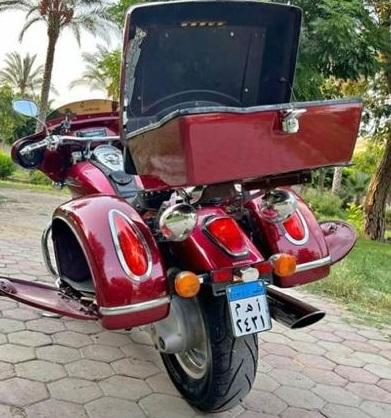License Plate: (226, 279, 271, 335)
